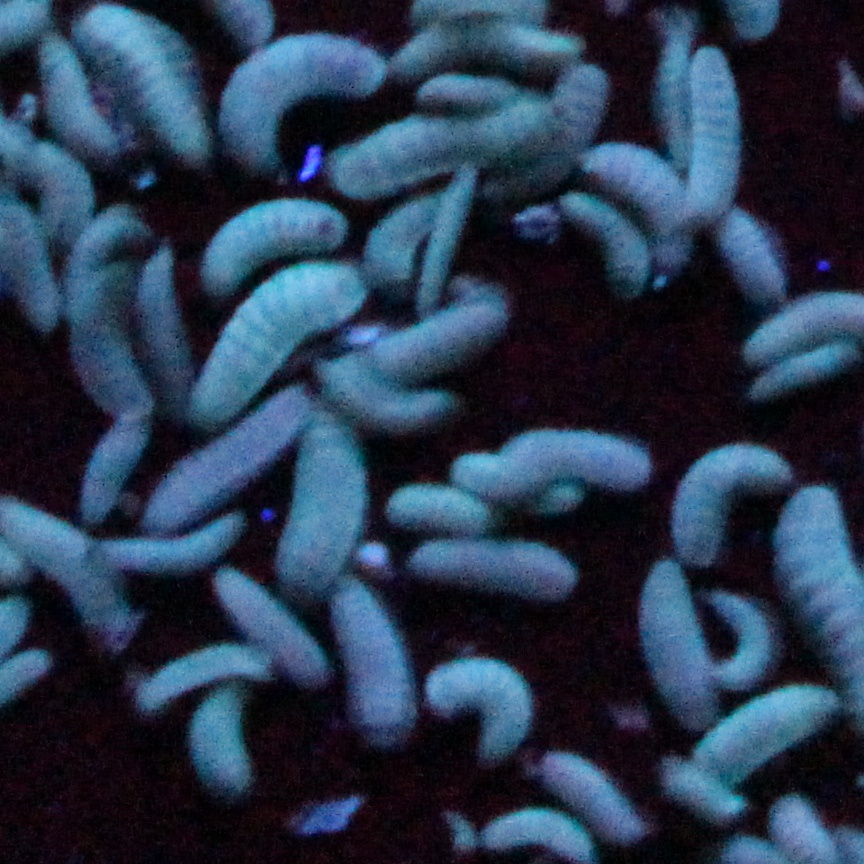larve: (207, 269, 344, 416), (138, 411, 298, 509), (233, 37, 375, 141), (103, 13, 198, 153), (281, 436, 358, 581), (14, 507, 114, 618), (342, 121, 523, 181), (335, 590, 409, 734), (600, 146, 691, 262), (361, 300, 496, 376), (77, 267, 142, 418), (207, 207, 330, 286), (653, 571, 716, 721), (701, 693, 828, 764), (233, 583, 319, 683), (424, 548, 577, 602), (435, 665, 526, 755), (689, 437, 767, 542), (689, 57, 743, 206), (545, 742, 643, 822), (416, 185, 474, 313), (47, 41, 112, 153), (405, 27, 582, 67), (519, 428, 646, 483), (458, 457, 572, 513), (142, 251, 184, 400), (377, 192, 442, 288), (393, 483, 495, 543), (7, 204, 61, 316), (151, 648, 254, 704), (335, 376, 447, 427), (579, 202, 642, 292), (196, 692, 253, 790), (656, 34, 697, 157), (74, 209, 146, 276), (551, 67, 600, 165), (37, 144, 84, 237), (725, 216, 785, 288), (93, 420, 137, 516), (496, 807, 599, 844), (759, 350, 844, 393), (109, 534, 226, 564), (421, 72, 530, 104), (728, 590, 764, 686), (677, 764, 740, 810)
